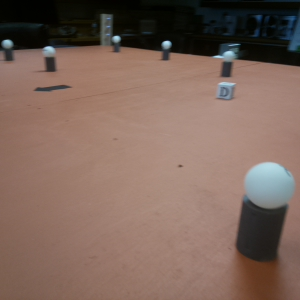obstacle: (234, 161, 292, 260), (222, 50, 234, 77), (45, 45, 56, 73), (3, 39, 13, 62), (162, 40, 171, 61), (113, 34, 121, 52)
